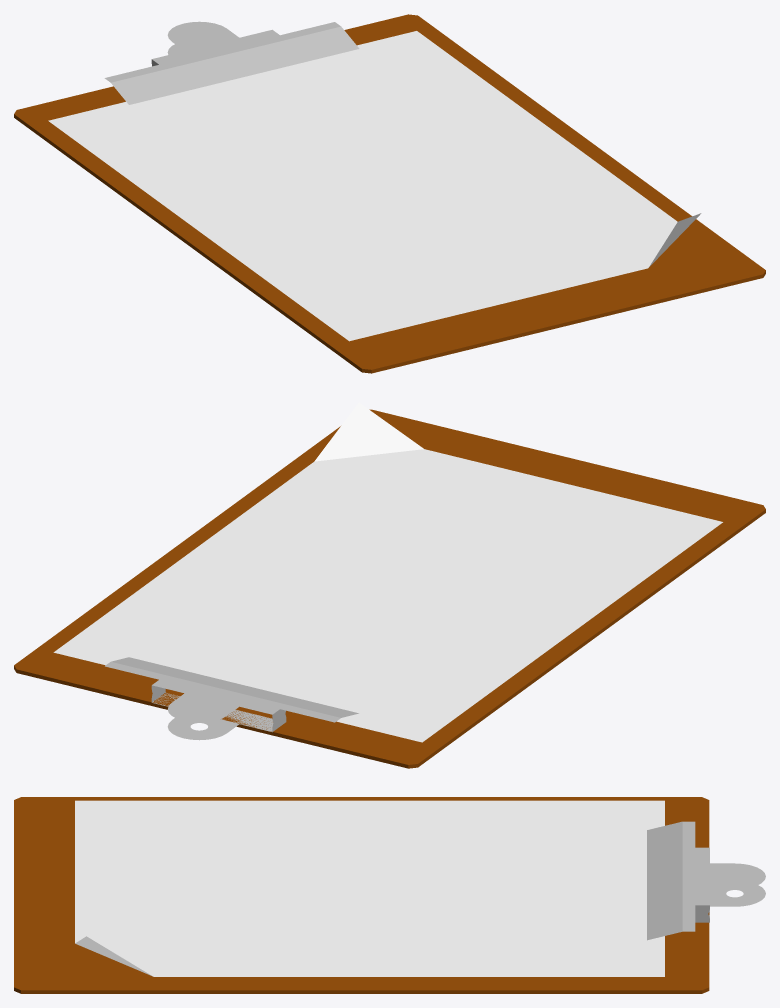
Rendered from Prancheta.fbx.
3 views of the same model, one above another, from view 1: azimuth 30°, elevation 25°; view 2: azimuth 150°, elevation 25°; view 3: azimuth 270°, elevation 25° (orthographic). The views are drawn at different scales.
Parts seen in each view (by area): view 1: Group1, Group5, Group3; view 2: Group1, Group5, Group3, Group4; view 3: Group1, Group5, Group3, Group4.
Part boxes in pixels (x1,y1,x2,y2): Group1: (48, 31, 701, 341); Group5: (14, 14, 765, 373); Group3: (104, 21, 359, 104); Group1: (53, 402, 722, 742); Group5: (14, 409, 765, 768); Group3: (105, 657, 358, 725); Group4: (151, 687, 286, 740); Group1: (75, 800, 664, 976); Group5: (14, 797, 709, 993); Group3: (647, 821, 765, 940); Group4: (695, 885, 765, 922).
Size of the model in its own units: 23 by 2.39 by 37.86.
